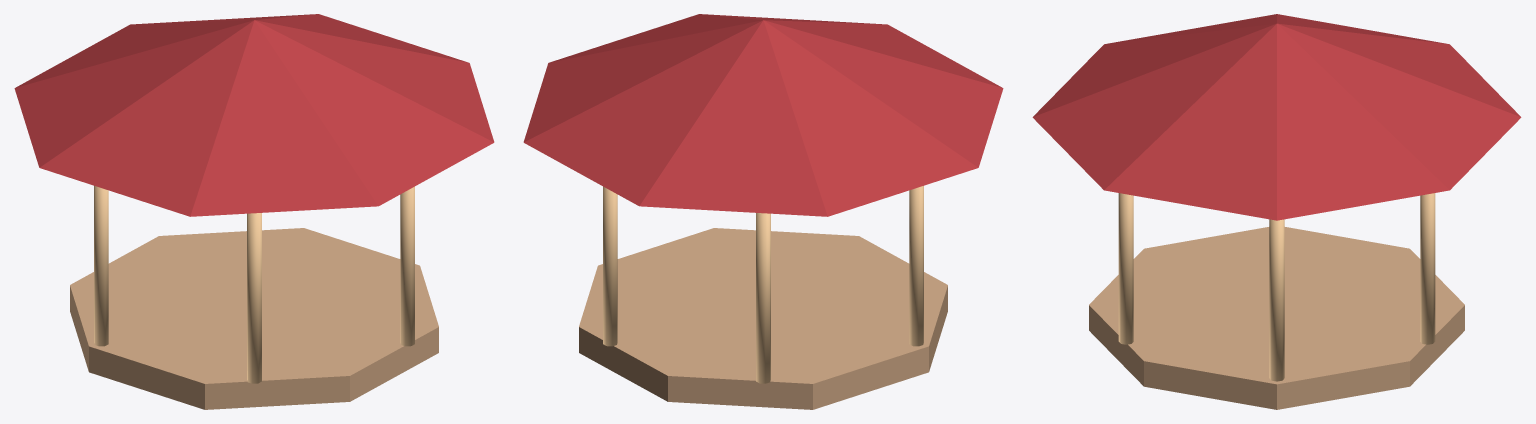
The model's file is gazebo.glb.
3 renders of one model, left to right at view 1: azimuth 30°, elevation 25°; view 2: azimuth 150°, elevation 25°; view 3: azimuth 270°, elevation 25°, orthographic.
Visible parts, largest first — view 1: gazebo_roof, gazebo, gazebo_post4, gazebo_post3, gazebo_post5; view 2: gazebo_roof, gazebo, gazebo_post2, gazebo_post3, gazebo_post1; view 3: gazebo_roof, gazebo, gazebo_post0, gazebo_post1, gazebo_post5.
Boxes of the visible parts, box(x1,y1,x2,y2) form: gazebo_roof: box(14, 14, 494, 216); gazebo: box(70, 228, 438, 409); gazebo_post4: box(247, 213, 261, 383); gazebo_post3: box(94, 186, 108, 346); gazebo_post5: box(400, 186, 414, 346); gazebo_roof: box(523, 14, 1003, 216); gazebo: box(579, 228, 947, 409); gazebo_post2: box(756, 213, 770, 383); gazebo_post3: box(909, 186, 923, 346); gazebo_post1: box(603, 186, 617, 346); gazebo_roof: box(1032, 14, 1521, 220); gazebo: box(1089, 227, 1464, 409); gazebo_post0: box(1269, 219, 1284, 381); gazebo_post1: box(1420, 193, 1435, 344); gazebo_post5: box(1118, 193, 1133, 344).
Size of the model in its own units: 5.2 by 3.6 by 5.2.
